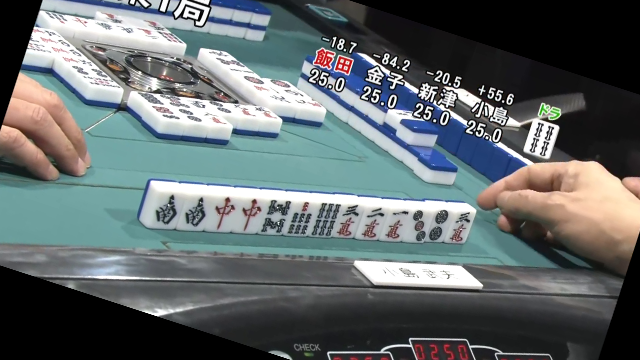Tehai: (144, 189, 474, 248)
